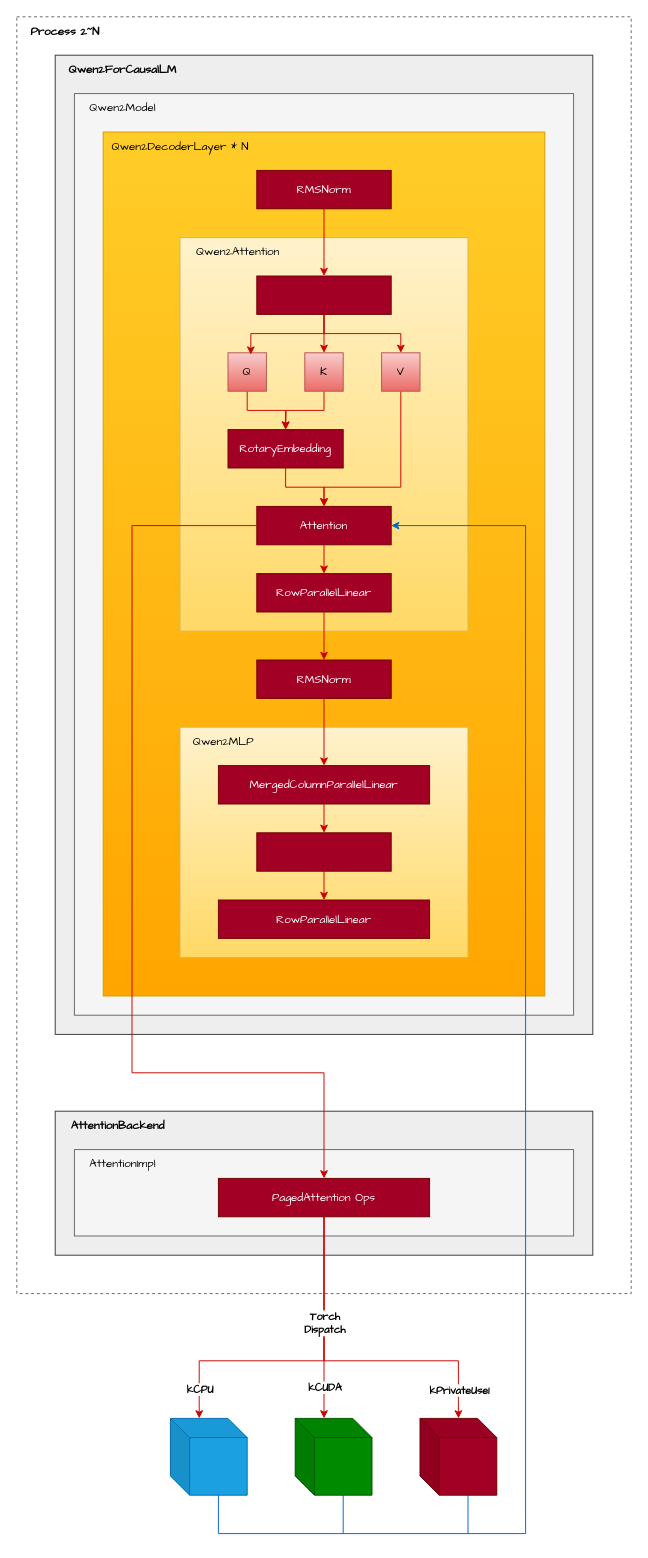
Image size: 648x1558. Some labels were removed from this diagram. Here are the shapes that lost their labels. From the top down, the centre of each, then its label:
At (323,294): "QKVParallelLinear".
At (323,851): "SiluAndMul".
At (208,1456): "CPU".
At (333,1456): "GPU".
At (458,1456): "NPU".
